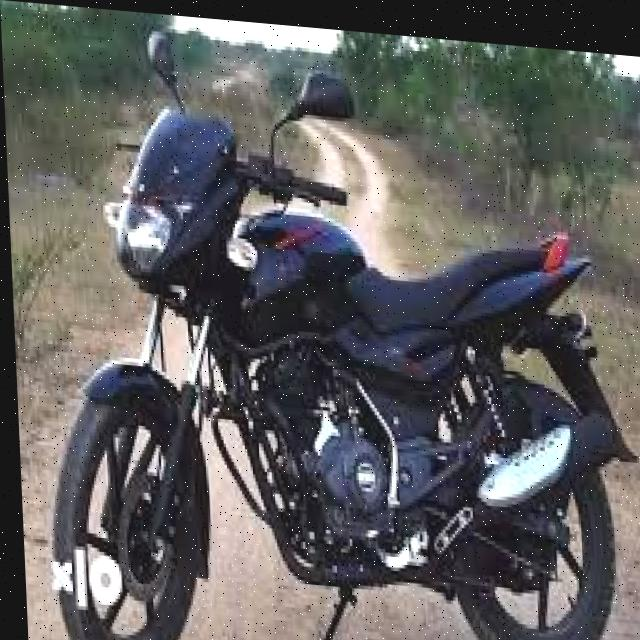bike: (20, 96, 634, 640)
